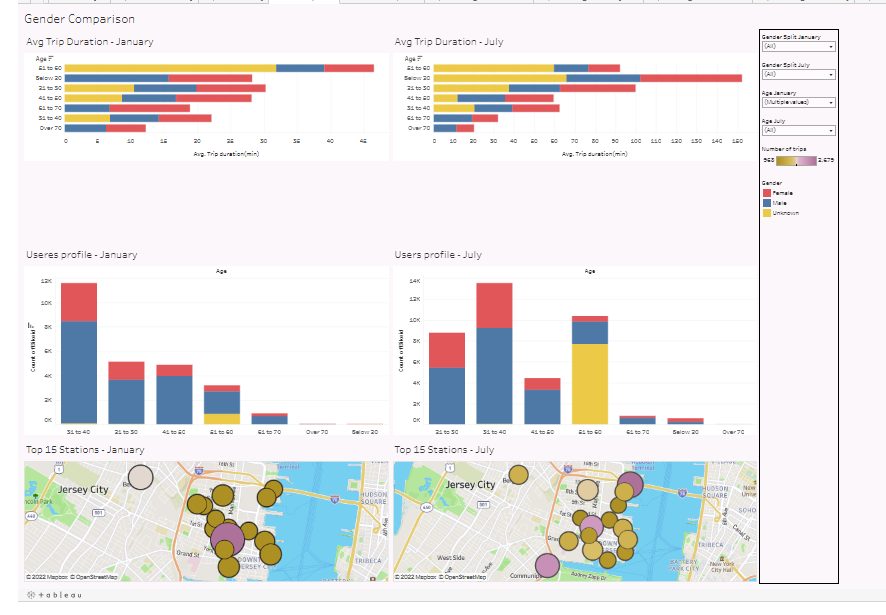

What the dashboard file says about the page in this screenshot:
{"tool":"tableau","page":{"name":"Gender Comparison","canvas":[1000,1000],"units":"permille","ordinal":0},"visuals":[{"type":"title","box":[5,9.9,990,72]},{"type":"worksheet","title":"Avg Trip Duration - January","mark":"Automatic","cols":["Calculation_1709960498835881984"],"box":[5,81.9,445.1,348.6]},{"type":"worksheet","title":"Avg Trip Duration - July","mark":"Automatic","cols":["Calculation_1709960498837508097"],"box":[450.1,81.9,445.1,348.6]},{"type":"filter","title":"Avg Trip Duration - January","param":"[federated.1dh0ozy1dl54zy1eh93us0io2s8j].[Gender (group)]","box":[895.9,83.1,98.5,86.9]},{"type":"filter","title":"Avg Trip Duration - July","param":"[federated.14olxoa11jx6iv1f3uj6h0gwtq43].[Gender (group)]","box":[895.9,170,98.5,86.9]},{"type":"filter","title":"Avg Trip Duration - January","param":"[federated.1dh0ozy1dl54zy1eh93us0io2s8j].[Birth Year (group)]","box":[895.9,256.8,98.5,86.9]},{"type":"filter","title":"Avg Trip Duration - July","param":"[federated.14olxoa11jx6iv1f3uj6h0gwtq43].[Birth Year (group)]","box":[895.9,343.7,98.5,86.9]},{"type":"worksheet","title":"Useres profile - January","mark":"Automatic","rows":["bikeid"],"box":[5,430.5,445.1,318.9]},{"type":"worksheet","title":"Users profile - July","mark":"Automatic","rows":["bikeid"],"box":[450.1,430.5,445.1,318.9]},{"type":"legend","title":"Top 15 Stations - July","param":"[federated.14olxoa11jx6iv1f3uj6h0gwtq43].[cnt:bikeid:qk]","box":[895.9,430.5,98.5,100.5]},{"type":"legend","title":"Useres profile - January","param":"[federated.1dh0ozy1dl54zy1eh93us0io2s8j].[Gender (group)]","box":[895.9,531,98.5,135.2]},{"type":"worksheet","title":"Top 15 Stations - January","mark":"Automatic","rows":["start station latitude"],"cols":["start station longitude"],"box":[5,749.4,445.1,240.7]},{"type":"worksheet","title":"Top 15 Stations - July","mark":"Automatic","rows":["start station latitude"],"cols":["start station longitude"],"box":[450.1,749.4,445.1,240.7]}]}

Visuals, with their boxes on the dashboard's canvas, which has no fixed pixel size, in thousandths of its width and height (x1, y1, x2, y2). These are canvas units, not pixel positions in the 886x615 screenshot, which may show the page scaled, cropped or inside an application window:
title: [5, 10, 995, 82]
"Avg Trip Duration - January" worksheet: [5, 82, 450, 430]
"Avg Trip Duration - July" worksheet: [450, 82, 895, 430]
"Avg Trip Duration - January" filter: [896, 83, 994, 170]
"Avg Trip Duration - July" filter: [896, 170, 994, 257]
"Avg Trip Duration - January" filter: [896, 257, 994, 344]
"Avg Trip Duration - July" filter: [896, 344, 994, 431]
"Useres profile - January" worksheet: [5, 430, 450, 749]
"Users profile - July" worksheet: [450, 430, 895, 749]
"Top 15 Stations - July" legend: [896, 430, 994, 531]
"Useres profile - January" legend: [896, 531, 994, 666]
"Top 15 Stations - January" worksheet: [5, 749, 450, 990]
"Top 15 Stations - July" worksheet: [450, 749, 895, 990]
